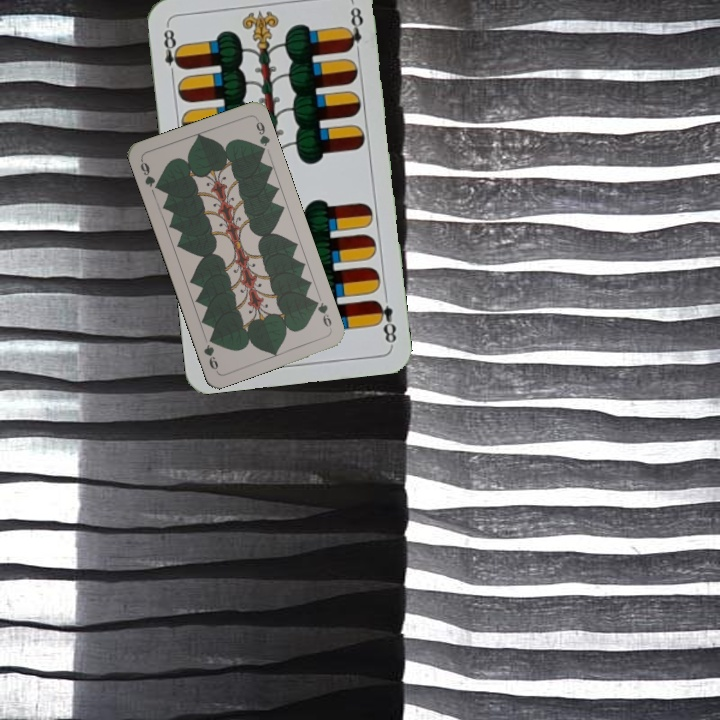E8: (159, 21, 185, 80), (371, 296, 399, 347)
G9: (136, 156, 163, 193), (309, 296, 335, 332)
